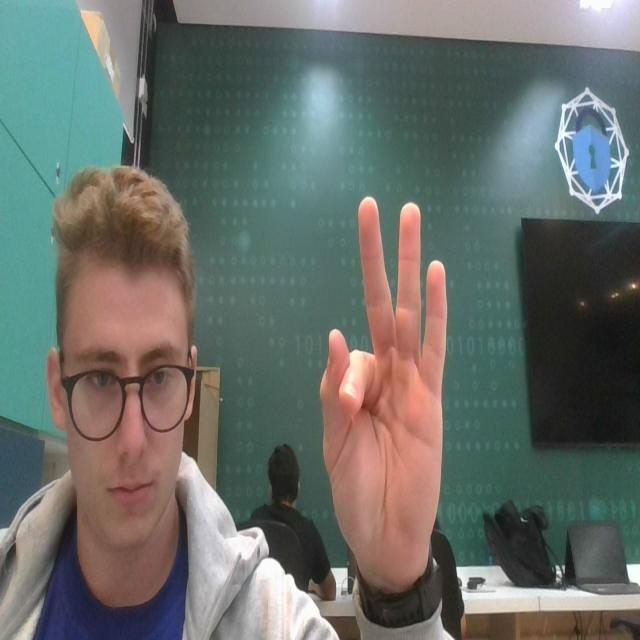F: (316, 165, 457, 594)
